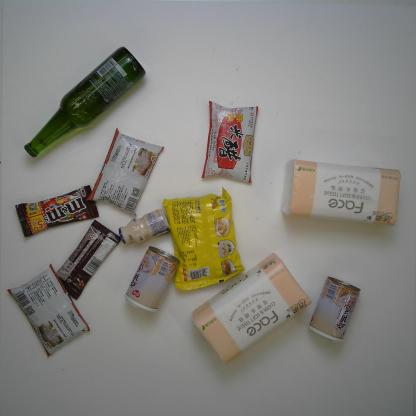Alcohol: (20, 44, 150, 164)
Canned Food: (306, 271, 365, 348), (123, 243, 180, 312)
Chocolate: (54, 220, 126, 303), (11, 181, 104, 239)
Instant Noodles: (160, 186, 246, 292)
Milk: (118, 208, 171, 246)
Seasoner: (5, 260, 100, 359), (84, 123, 167, 217), (198, 98, 265, 187)
Tissue: (189, 253, 317, 367), (280, 156, 403, 230)
